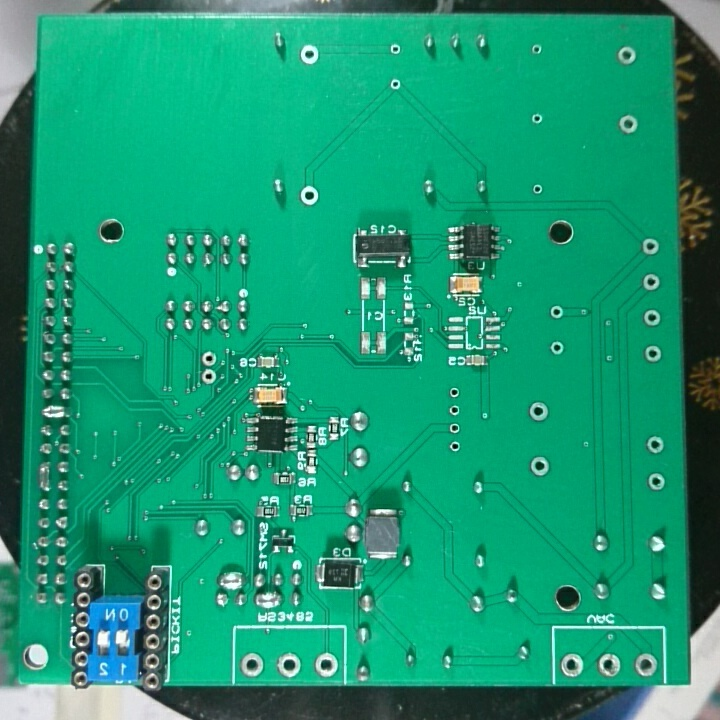F: (237, 650, 268, 678), (559, 650, 586, 682), (594, 651, 622, 680), (311, 651, 339, 678), (633, 650, 659, 679), (275, 652, 303, 678), (527, 454, 554, 480), (614, 41, 639, 69), (616, 112, 642, 138), (297, 40, 322, 67), (295, 183, 320, 208), (525, 400, 551, 424), (643, 433, 665, 458), (642, 343, 665, 366), (640, 308, 664, 330), (647, 470, 668, 493), (639, 235, 661, 256), (640, 272, 661, 292), (445, 399, 467, 418), (443, 383, 465, 402), (386, 38, 405, 59), (199, 367, 218, 387), (445, 418, 465, 437), (548, 338, 566, 358), (548, 303, 565, 324), (445, 438, 464, 456), (199, 350, 219, 367), (528, 181, 547, 198), (386, 73, 402, 93), (529, 40, 545, 58), (529, 110, 544, 128)
P: (251, 589, 284, 611), (35, 459, 54, 495), (215, 569, 248, 589), (39, 404, 73, 420)
